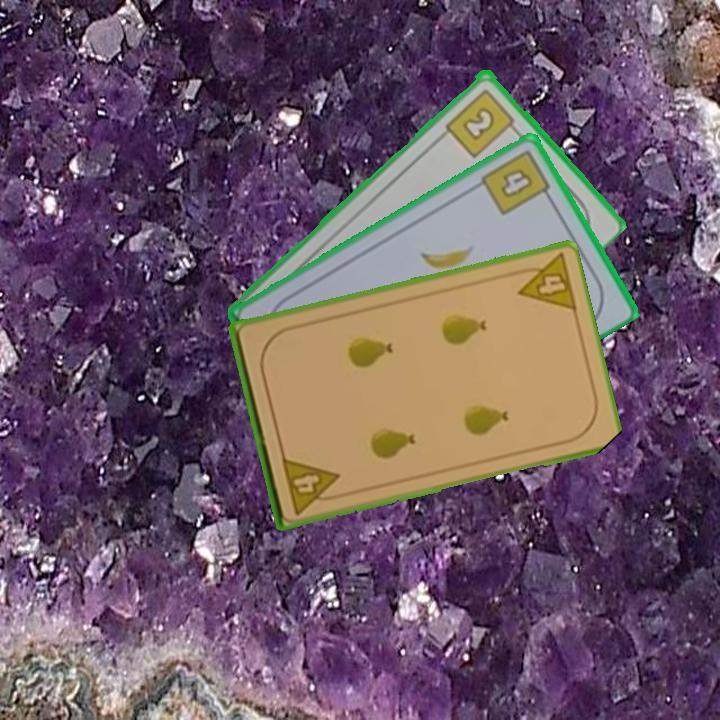2b: (442, 85, 522, 160)
4b: (477, 145, 556, 218)
4p: (507, 250, 579, 314), (278, 453, 345, 517)
